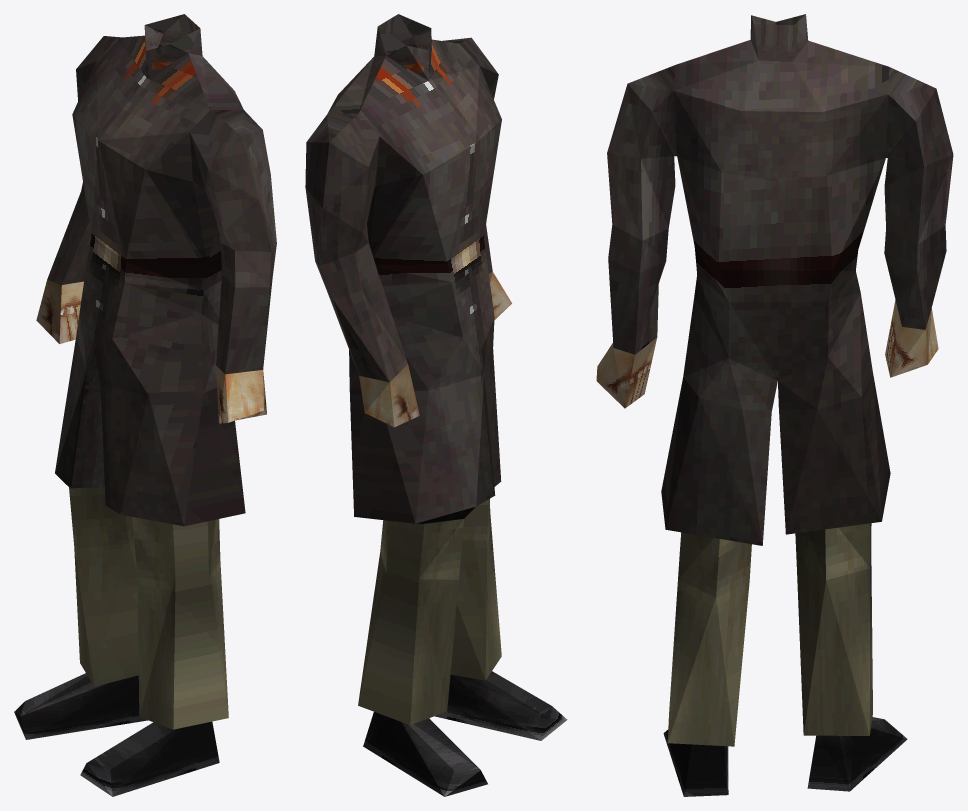
The model's file is primary_078.glb.
3 views of the same model, side by side, from view 1: azimuth 30°, elevation 25°; view 2: azimuth 150°, elevation 25°; view 3: azimuth 270°, elevation 25° (orthographic). The views are drawn at different scales.
Visible parts, largest first — view 1: Object; view 2: Object; view 3: Object.
Part boxes in pixels (left/top/right/bottom): Object: left=14, top=14, right=276, bottom=796; Object: left=305, top=14, right=567, bottom=796; Object: left=596, top=14, right=953, bottom=796.
Size of the model in its own units: 0.4312 by 1.8 by 0.7429.
Materials: 77 (77 with a texture image).
